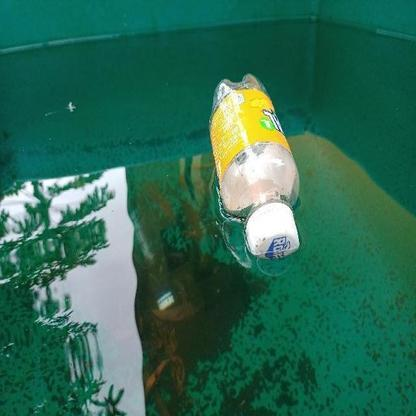plastic bottle: (208, 73, 301, 255)
